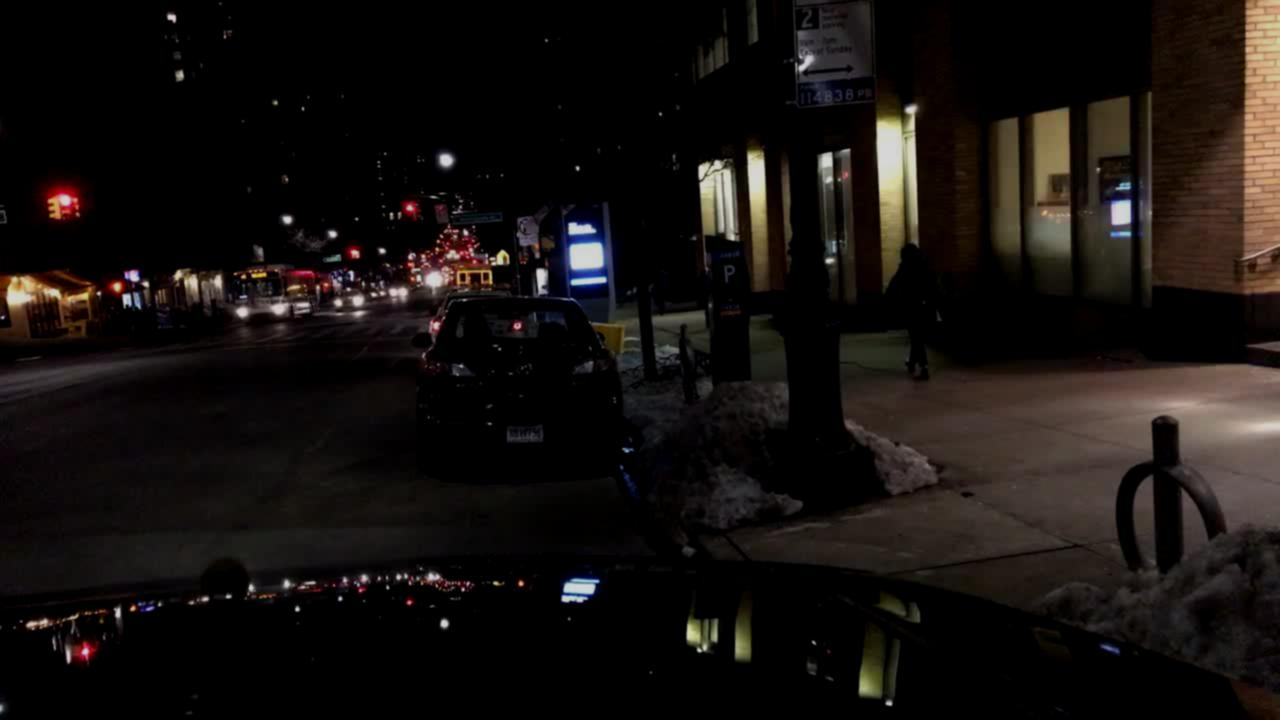Mazda: (510, 359, 538, 381)
